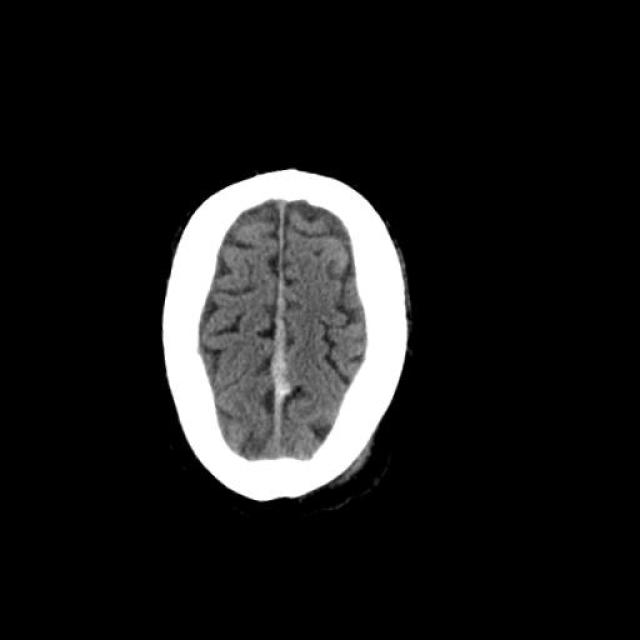Subdural: (223, 188, 343, 480)
